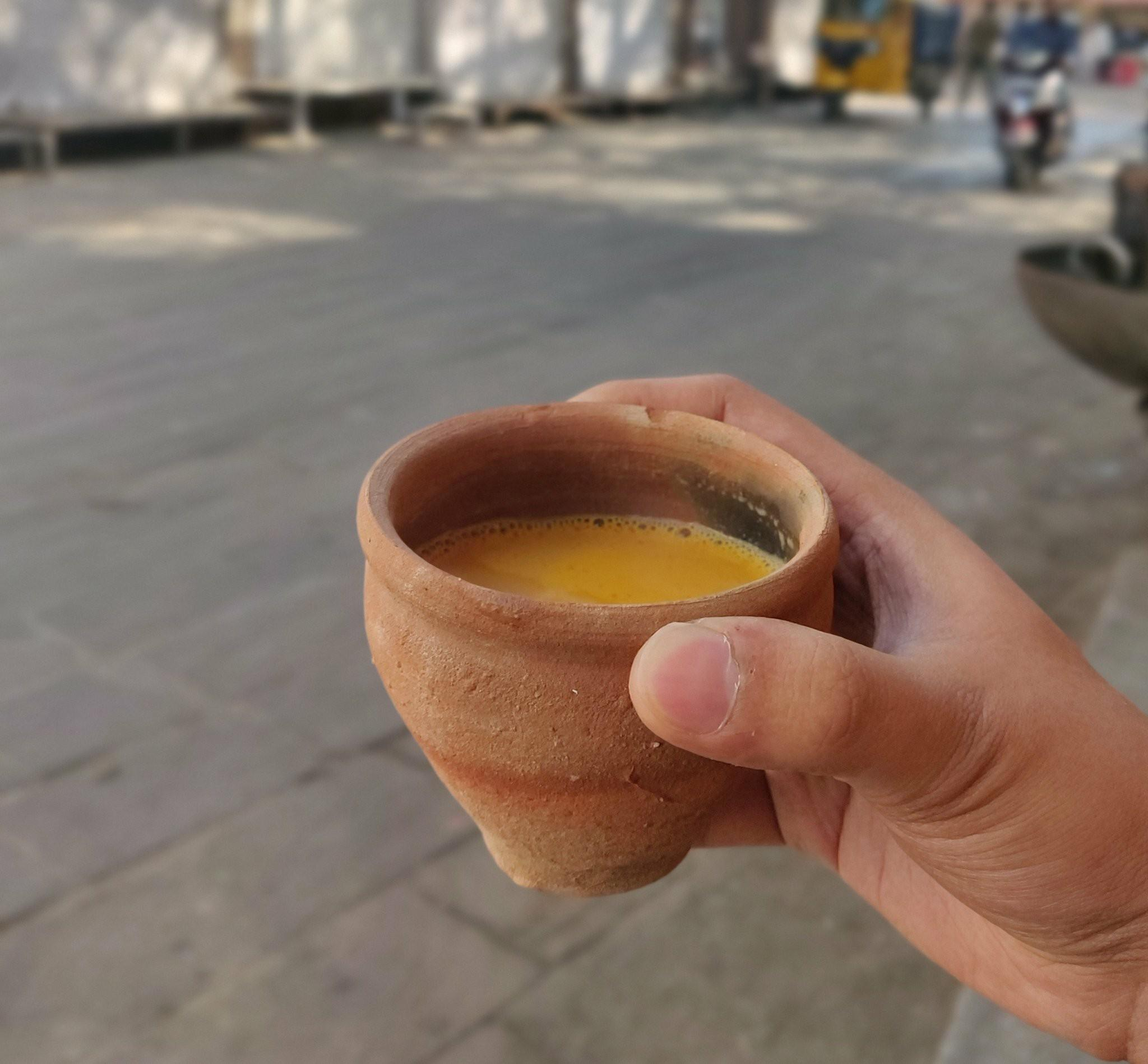Chai: (402, 509, 785, 601)
